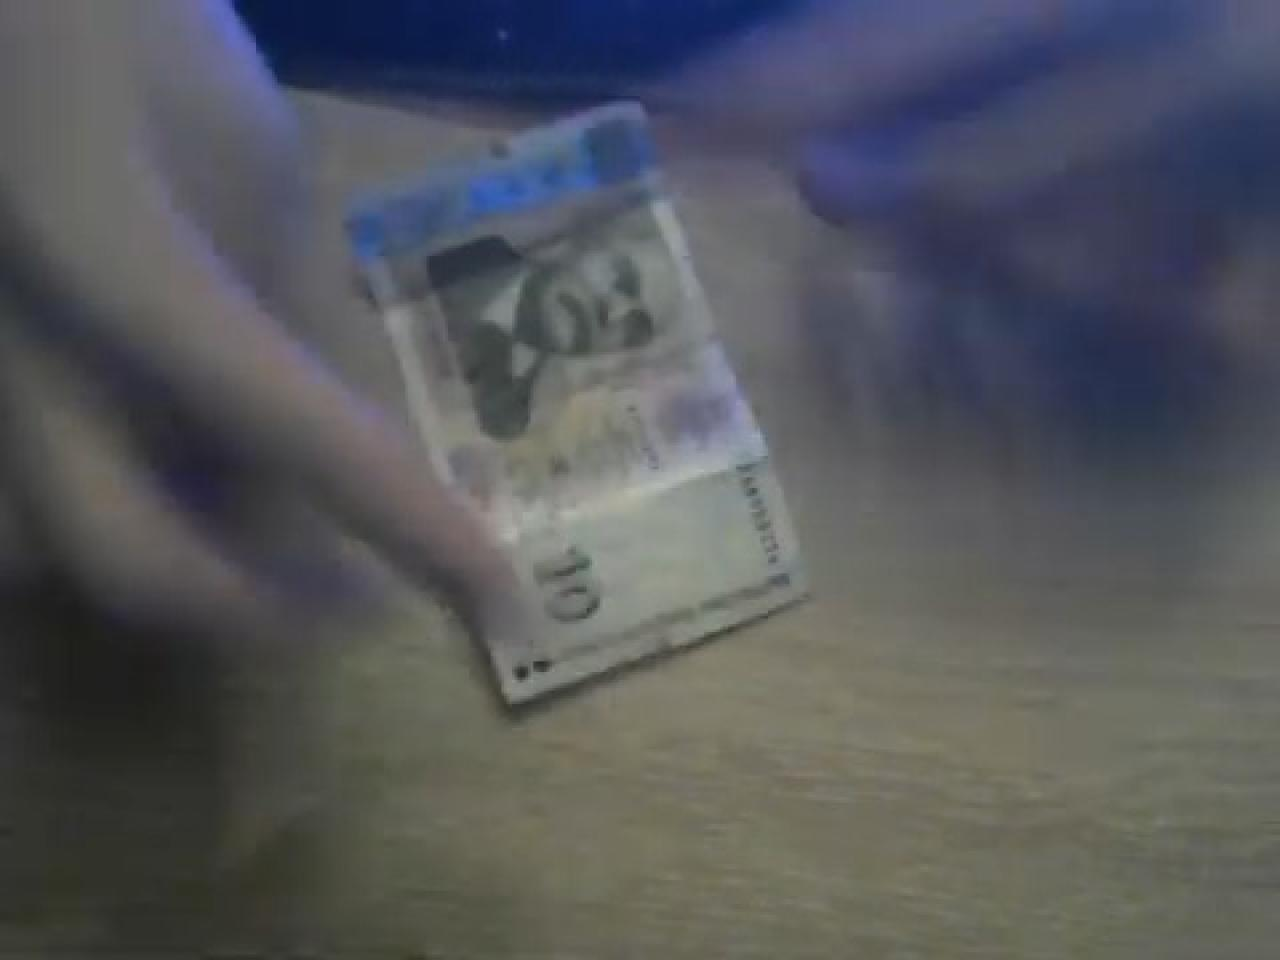10leva: (342, 104, 810, 715)
